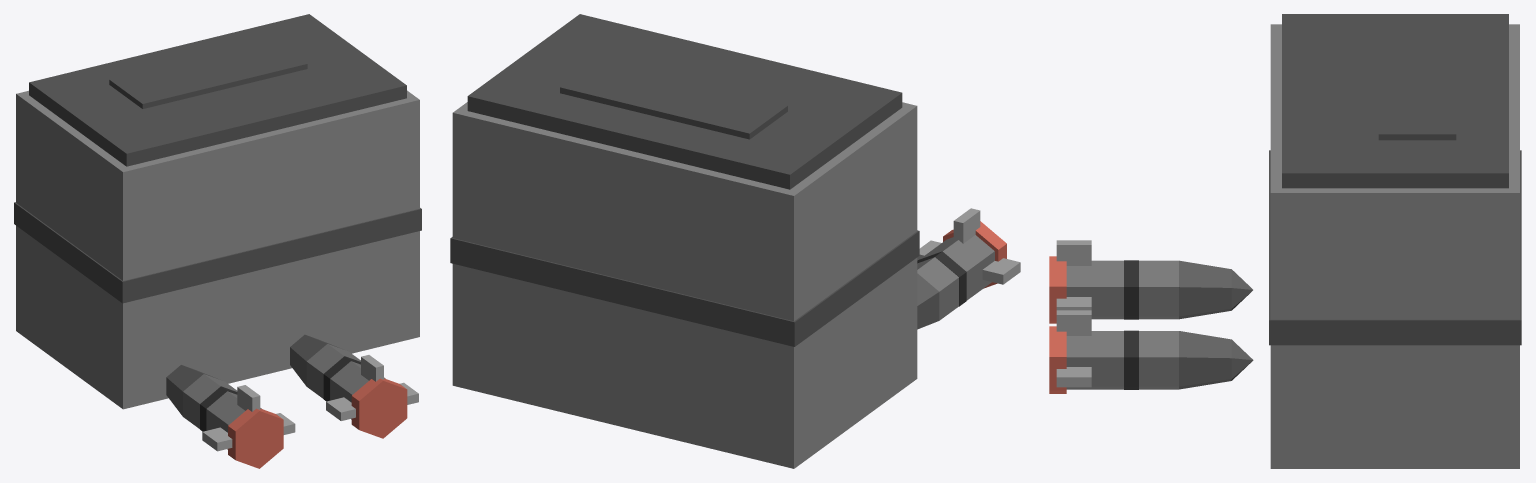
File: ce_ammo2_minirocket_hec_c.obj
3 views of the same model, side by side, from view 1: azimuth 30°, elevation 25°; view 2: azimuth 150°, elevation 25°; view 3: azimuth 270°, elevation 25° (orthographic). The views are drawn at different scales.
Parts seen in each view (by area): view 1: ce_ammo2_minirocket_hec_c_0, ce_ammo2_minirocket_hec_c_1, ce_ammo2_minirocket_hec_c_2, ce_ammo2_minirocket_hec_c_3, ce_ammo2_minirocket_hec_c_12, ce_ammo2_minirocket_hec_c_4, ce_ammo2_minirocket_hec_c_15, ce_ammo2_minirocket_hec_c_7, ce_ammo2_minirocket_hec_c_5, ce_ammo2_minirocket_hec_c_13, ce_ammo2_minirocket_hec_c_16, ce_ammo2_minirocket_hec_c_8 (+6 smaller); view 2: ce_ammo2_minirocket_hec_c_0, ce_ammo2_minirocket_hec_c_1, ce_ammo2_minirocket_hec_c_2, ce_ammo2_minirocket_hec_c_3, ce_ammo2_minirocket_hec_c_5, ce_ammo2_minirocket_hec_c_7, ce_ammo2_minirocket_hec_c_8, ce_ammo2_minirocket_hec_c_10, ce_ammo2_minirocket_hec_c_11, ce_ammo2_minirocket_hec_c_4, ce_ammo2_minirocket_hec_c_6; view 3: ce_ammo2_minirocket_hec_c_0, ce_ammo2_minirocket_hec_c_1, ce_ammo2_minirocket_hec_c_3, ce_ammo2_minirocket_hec_c_2, ce_ammo2_minirocket_hec_c_13, ce_ammo2_minirocket_hec_c_5, ce_ammo2_minirocket_hec_c_16, ce_ammo2_minirocket_hec_c_8, ce_ammo2_minirocket_hec_c_7, ce_ammo2_minirocket_hec_c_15, ce_ammo2_minirocket_hec_c_12, ce_ammo2_minirocket_hec_c_4 (+8 smaller).
Boxes of the visible parts, x1,y1,x2,y2 form: ce_ammo2_minirocket_hec_c_0: [16, 90, 419, 409]; ce_ammo2_minirocket_hec_c_1: [29, 14, 406, 166]; ce_ammo2_minirocket_hec_c_2: [14, 202, 421, 303]; ce_ammo2_minirocket_hec_c_3: [109, 39, 307, 108]; ce_ammo2_minirocket_hec_c_12: [351, 378, 407, 438]; ce_ammo2_minirocket_hec_c_4: [228, 408, 283, 468]; ce_ammo2_minirocket_hec_c_15: [306, 344, 360, 398]; ce_ammo2_minirocket_hec_c_7: [183, 374, 237, 428]; ce_ammo2_minirocket_hec_c_5: [206, 391, 261, 449]; ce_ammo2_minirocket_hec_c_13: [330, 361, 385, 419]; ce_ammo2_minirocket_hec_c_16: [290, 334, 343, 386]; ce_ammo2_minirocket_hec_c_8: [166, 365, 218, 416]; ce_ammo2_minirocket_hec_c_0: [452, 102, 917, 468]; ce_ammo2_minirocket_hec_c_1: [467, 14, 902, 189]; ce_ammo2_minirocket_hec_c_2: [450, 230, 919, 346]; ce_ammo2_minirocket_hec_c_3: [560, 59, 787, 139]; ce_ammo2_minirocket_hec_c_5: [920, 235, 994, 300]; ce_ammo2_minirocket_hec_c_7: [917, 257, 958, 320]; ce_ammo2_minirocket_hec_c_8: [917, 273, 939, 329]; ce_ammo2_minirocket_hec_c_10: [917, 240, 1020, 284]; ce_ammo2_minirocket_hec_c_11: [953, 208, 980, 243]; ce_ammo2_minirocket_hec_c_4: [943, 221, 1006, 288]; ce_ammo2_minirocket_hec_c_6: [917, 251, 966, 306]; ce_ammo2_minirocket_hec_c_0: [1270, 24, 1519, 468]; ce_ammo2_minirocket_hec_c_1: [1282, 14, 1508, 188]; ce_ammo2_minirocket_hec_c_3: [1378, 40, 1456, 140]; ce_ammo2_minirocket_hec_c_2: [1269, 150, 1521, 345]; ce_ammo2_minirocket_hec_c_13: [1066, 331, 1123, 389]; ce_ammo2_minirocket_hec_c_5: [1066, 260, 1123, 319]; ce_ammo2_minirocket_hec_c_16: [1179, 331, 1231, 389]; ce_ammo2_minirocket_hec_c_8: [1179, 260, 1231, 319]; ce_ammo2_minirocket_hec_c_7: [1139, 260, 1178, 319]; ce_ammo2_minirocket_hec_c_15: [1139, 331, 1178, 389]; ce_ammo2_minirocket_hec_c_12: [1049, 326, 1066, 393]; ce_ammo2_minirocket_hec_c_4: [1049, 256, 1066, 323].
Size of the model in its own units: 0.726 by 0.592 by 0.853.
